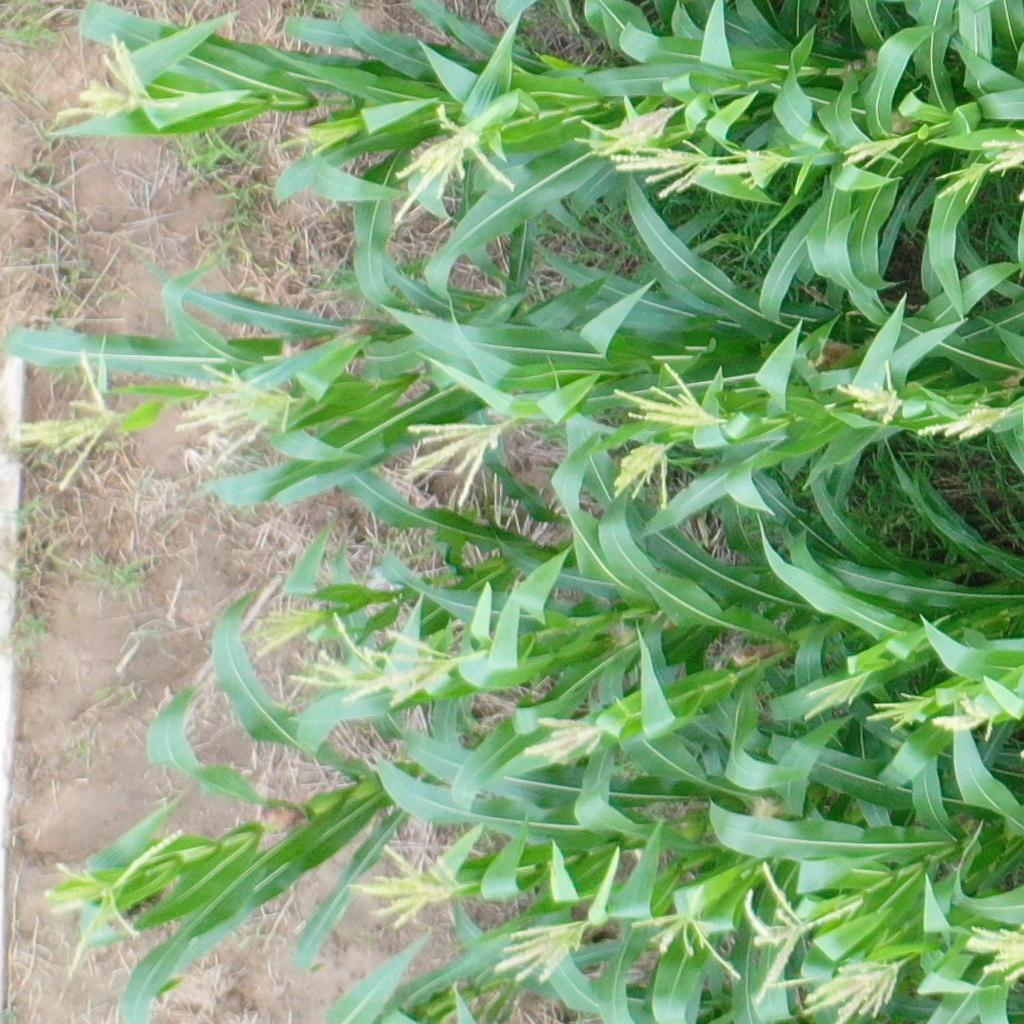Tassel: (285, 609, 497, 710), (44, 828, 185, 975), (6, 345, 116, 494), (386, 100, 516, 221), (172, 364, 294, 468), (631, 879, 748, 983), (344, 836, 476, 926), (738, 858, 816, 1003), (47, 33, 152, 131), (405, 413, 503, 518), (609, 360, 740, 433), (487, 919, 601, 989), (566, 90, 680, 151), (606, 140, 716, 202), (801, 963, 911, 1023), (244, 595, 326, 663), (611, 441, 681, 520), (521, 705, 609, 767), (700, 137, 794, 195), (829, 355, 905, 425), (919, 392, 1003, 446), (926, 690, 1006, 744), (963, 917, 1024, 986), (795, 667, 872, 718), (861, 695, 945, 733), (275, 117, 347, 159), (836, 129, 906, 172), (982, 125, 1024, 181), (931, 163, 982, 203)
